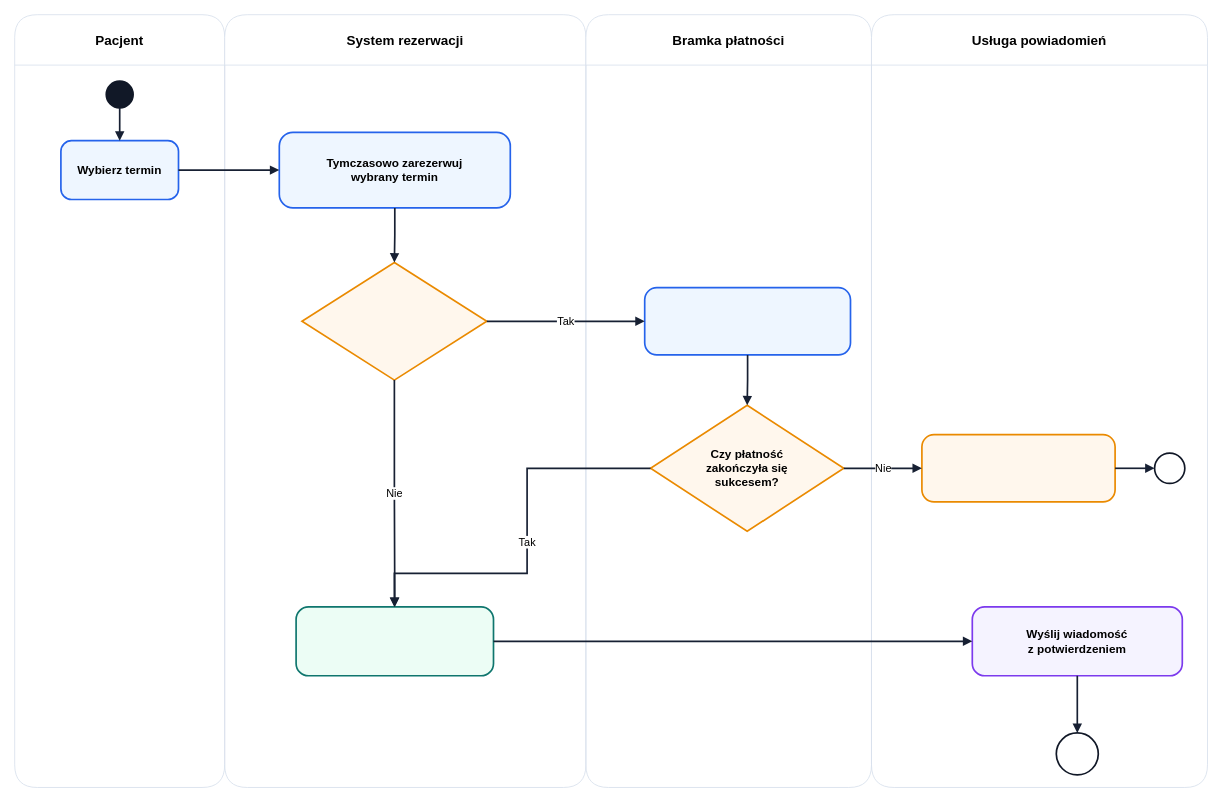
This 1222x802 diagram has some shape labels left out. The shapes that lost their labels are listed below. From the top down, each one's centre as x and y in pixels, then its label:
(x=394, y=321): Czy wymagana jest przedpłata?
(x=747, y=320): Autoryzuj płatność
(x=1018, y=467): Zwolnij termin i pokaż błąd
(x=394, y=641): Potwierdź wizytę
